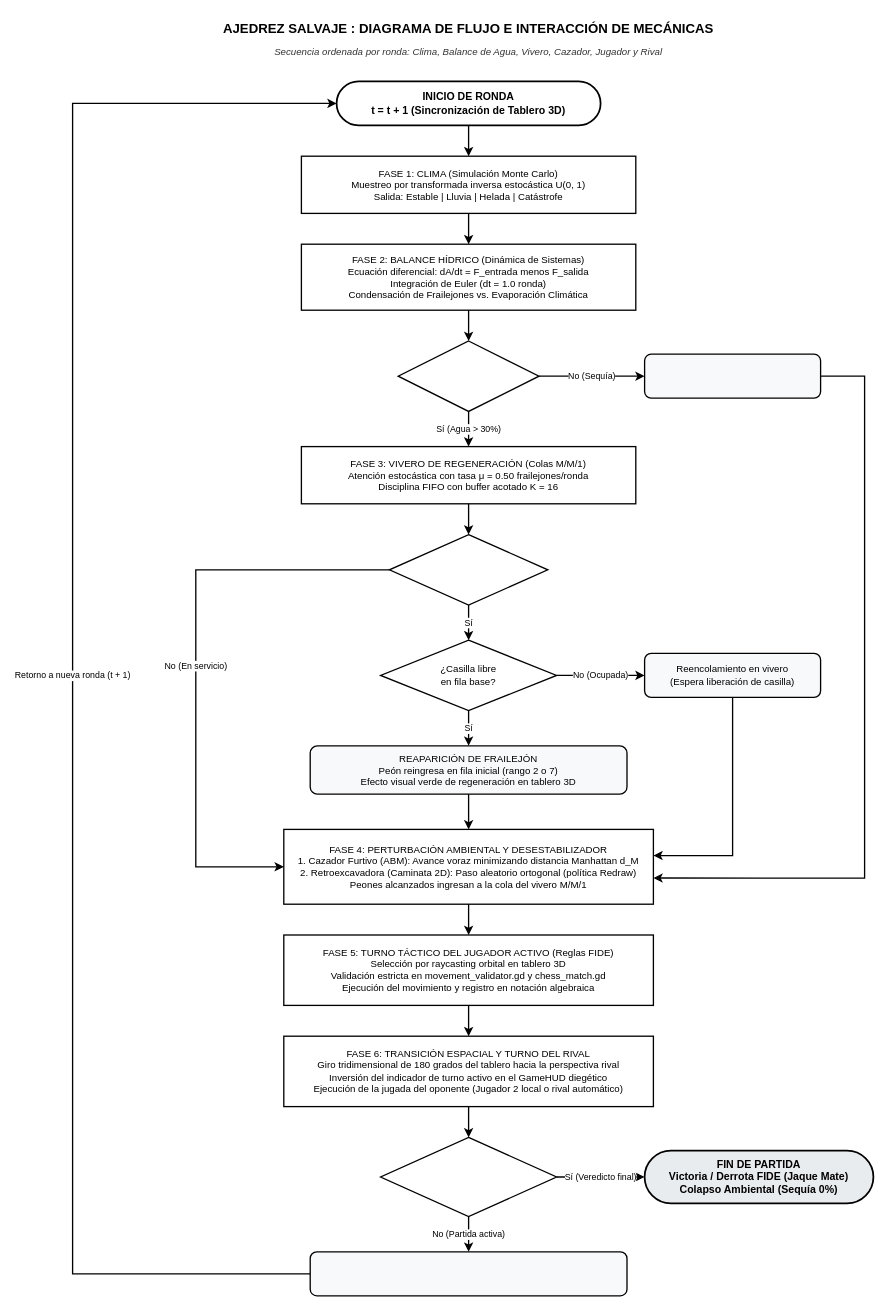
Some shapes in this 890 by 1311 pixel diagram are drawn without their labels. The shapes that lost their labels are listed below. From the top down, each one's centre as x and y in pixels, then its label:
At point 468,376: "¿Reserva de Agua > 30%?".
At point 732,375: "Vivero Inactivo (Servidor detenido: μ = 0)".
At point 468,569: "¿Germinación completada?".
At point 468,1176: "¿Jaque mate FIDE o Agua <= 0%?".
At point 468,1273: "AVANCE DE CICLO Actualización de métricas, conservación de stock y paso a t + 1".
